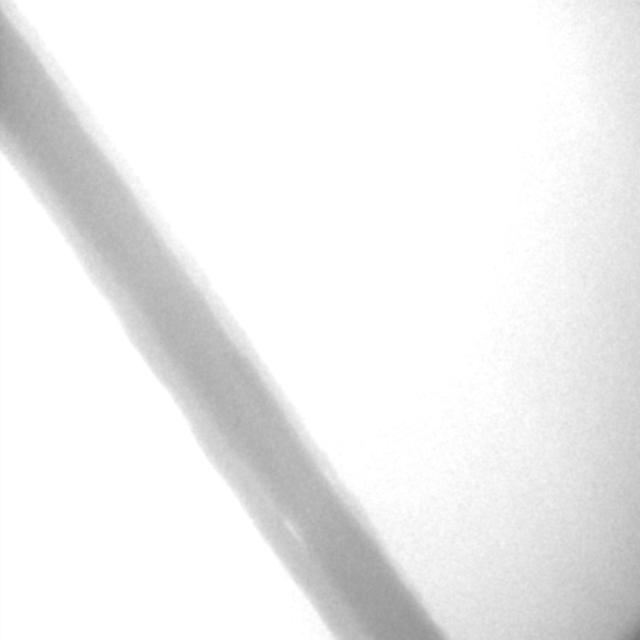air-hole: (284, 522, 299, 534)
broken-arc: (337, 503, 464, 640)
